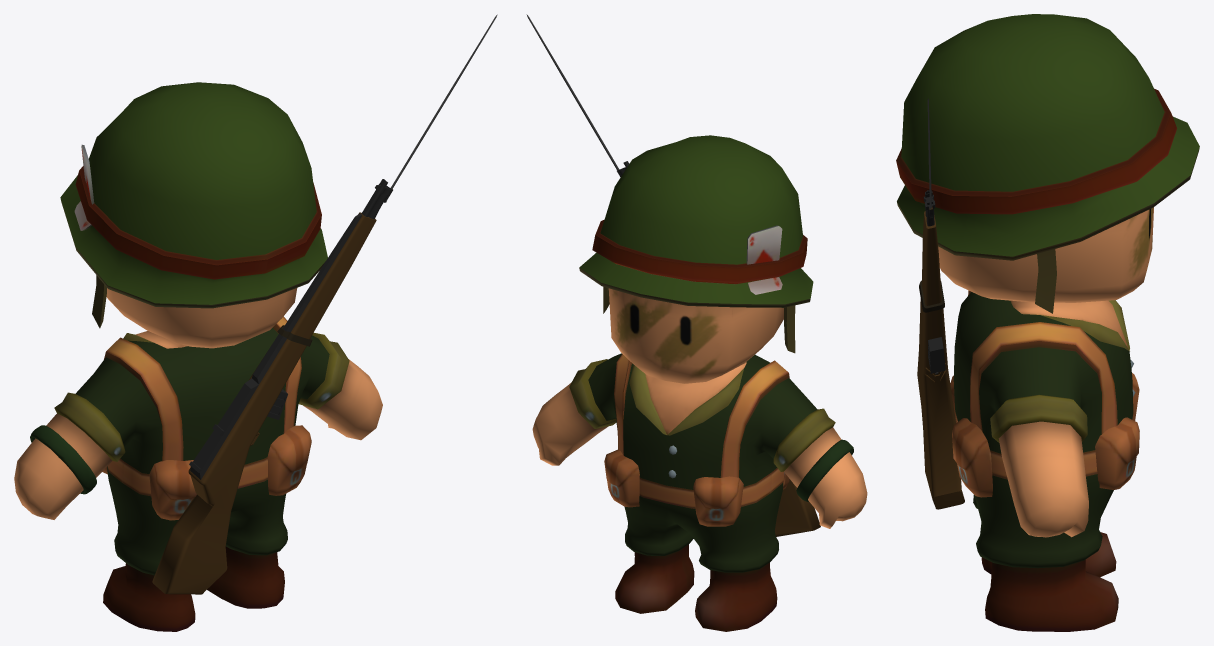
File: StumbleGreen 1.fbx
3 views of the same model, side by side, from view 1: azimuth 30°, elevation 25°; view 2: azimuth 150°, elevation 25°; view 3: azimuth 270°, elevation 25° (orthographic). The views are drawn at different scales.
Visible parts, largest first — view 1: Player_SkinSoldier_003; view 2: Player_SkinSoldier_003; view 3: Player_SkinSoldier_003.
Part boxes in pixels (<box>): Player_SkinSoldier_003: <box>14,14,497,631</box>; Player_SkinSoldier_003: <box>526,14,867,631</box>; Player_SkinSoldier_003: <box>896,14,1199,631</box>.
Bounding box in the file's own units: 0.4675 × 0.5879 × 0.2585.
Materials: 8 (1 with a texture image).
